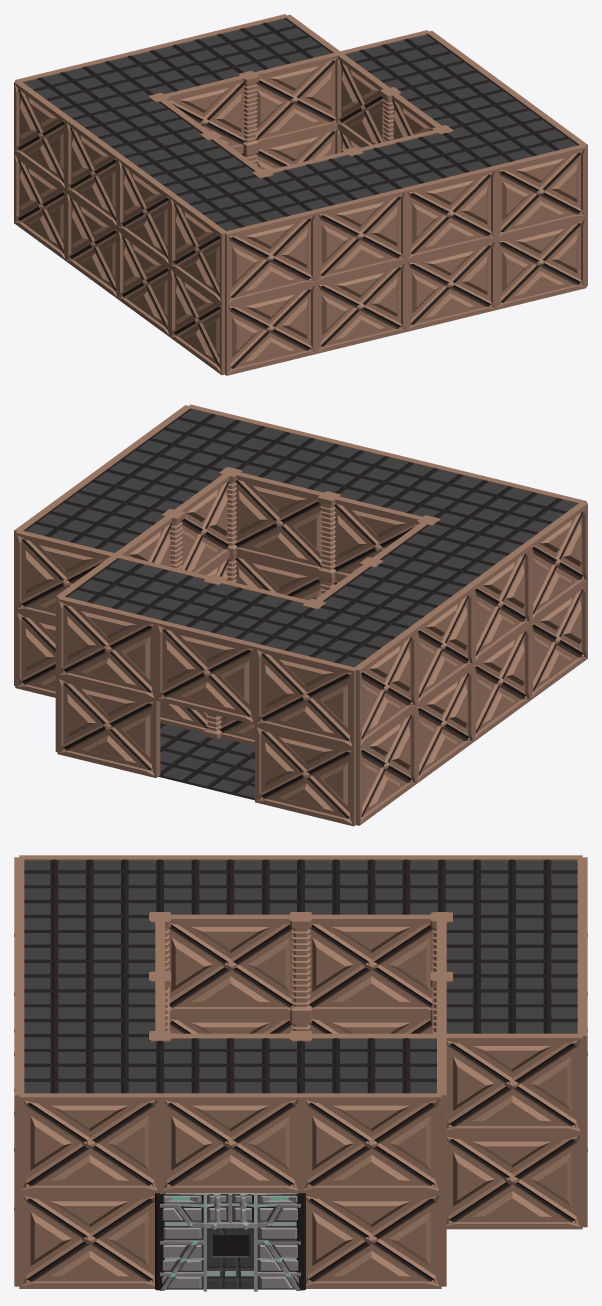
The model's file is room5.fbx.
3 views of the same model, one above another, from view 1: azimuth 30°, elevation 25°; view 2: azimuth 150°, elevation 25°; view 3: azimuth 270°, elevation 25° (orthographic). The views are drawn at different scales.
Parts seen in each view (by area): view 1: walls; view 2: walls; view 3: walls, door.
Boxes of the visible parts, <box> form: walls: <box>14,14,587,375</box>; walls: <box>14,404,587,826</box>; walls: <box>14,855,587,1288</box>; door: <box>155,1193,305,1291</box>.
Size of the model in its own units: 1659 by 600 by 1630.
